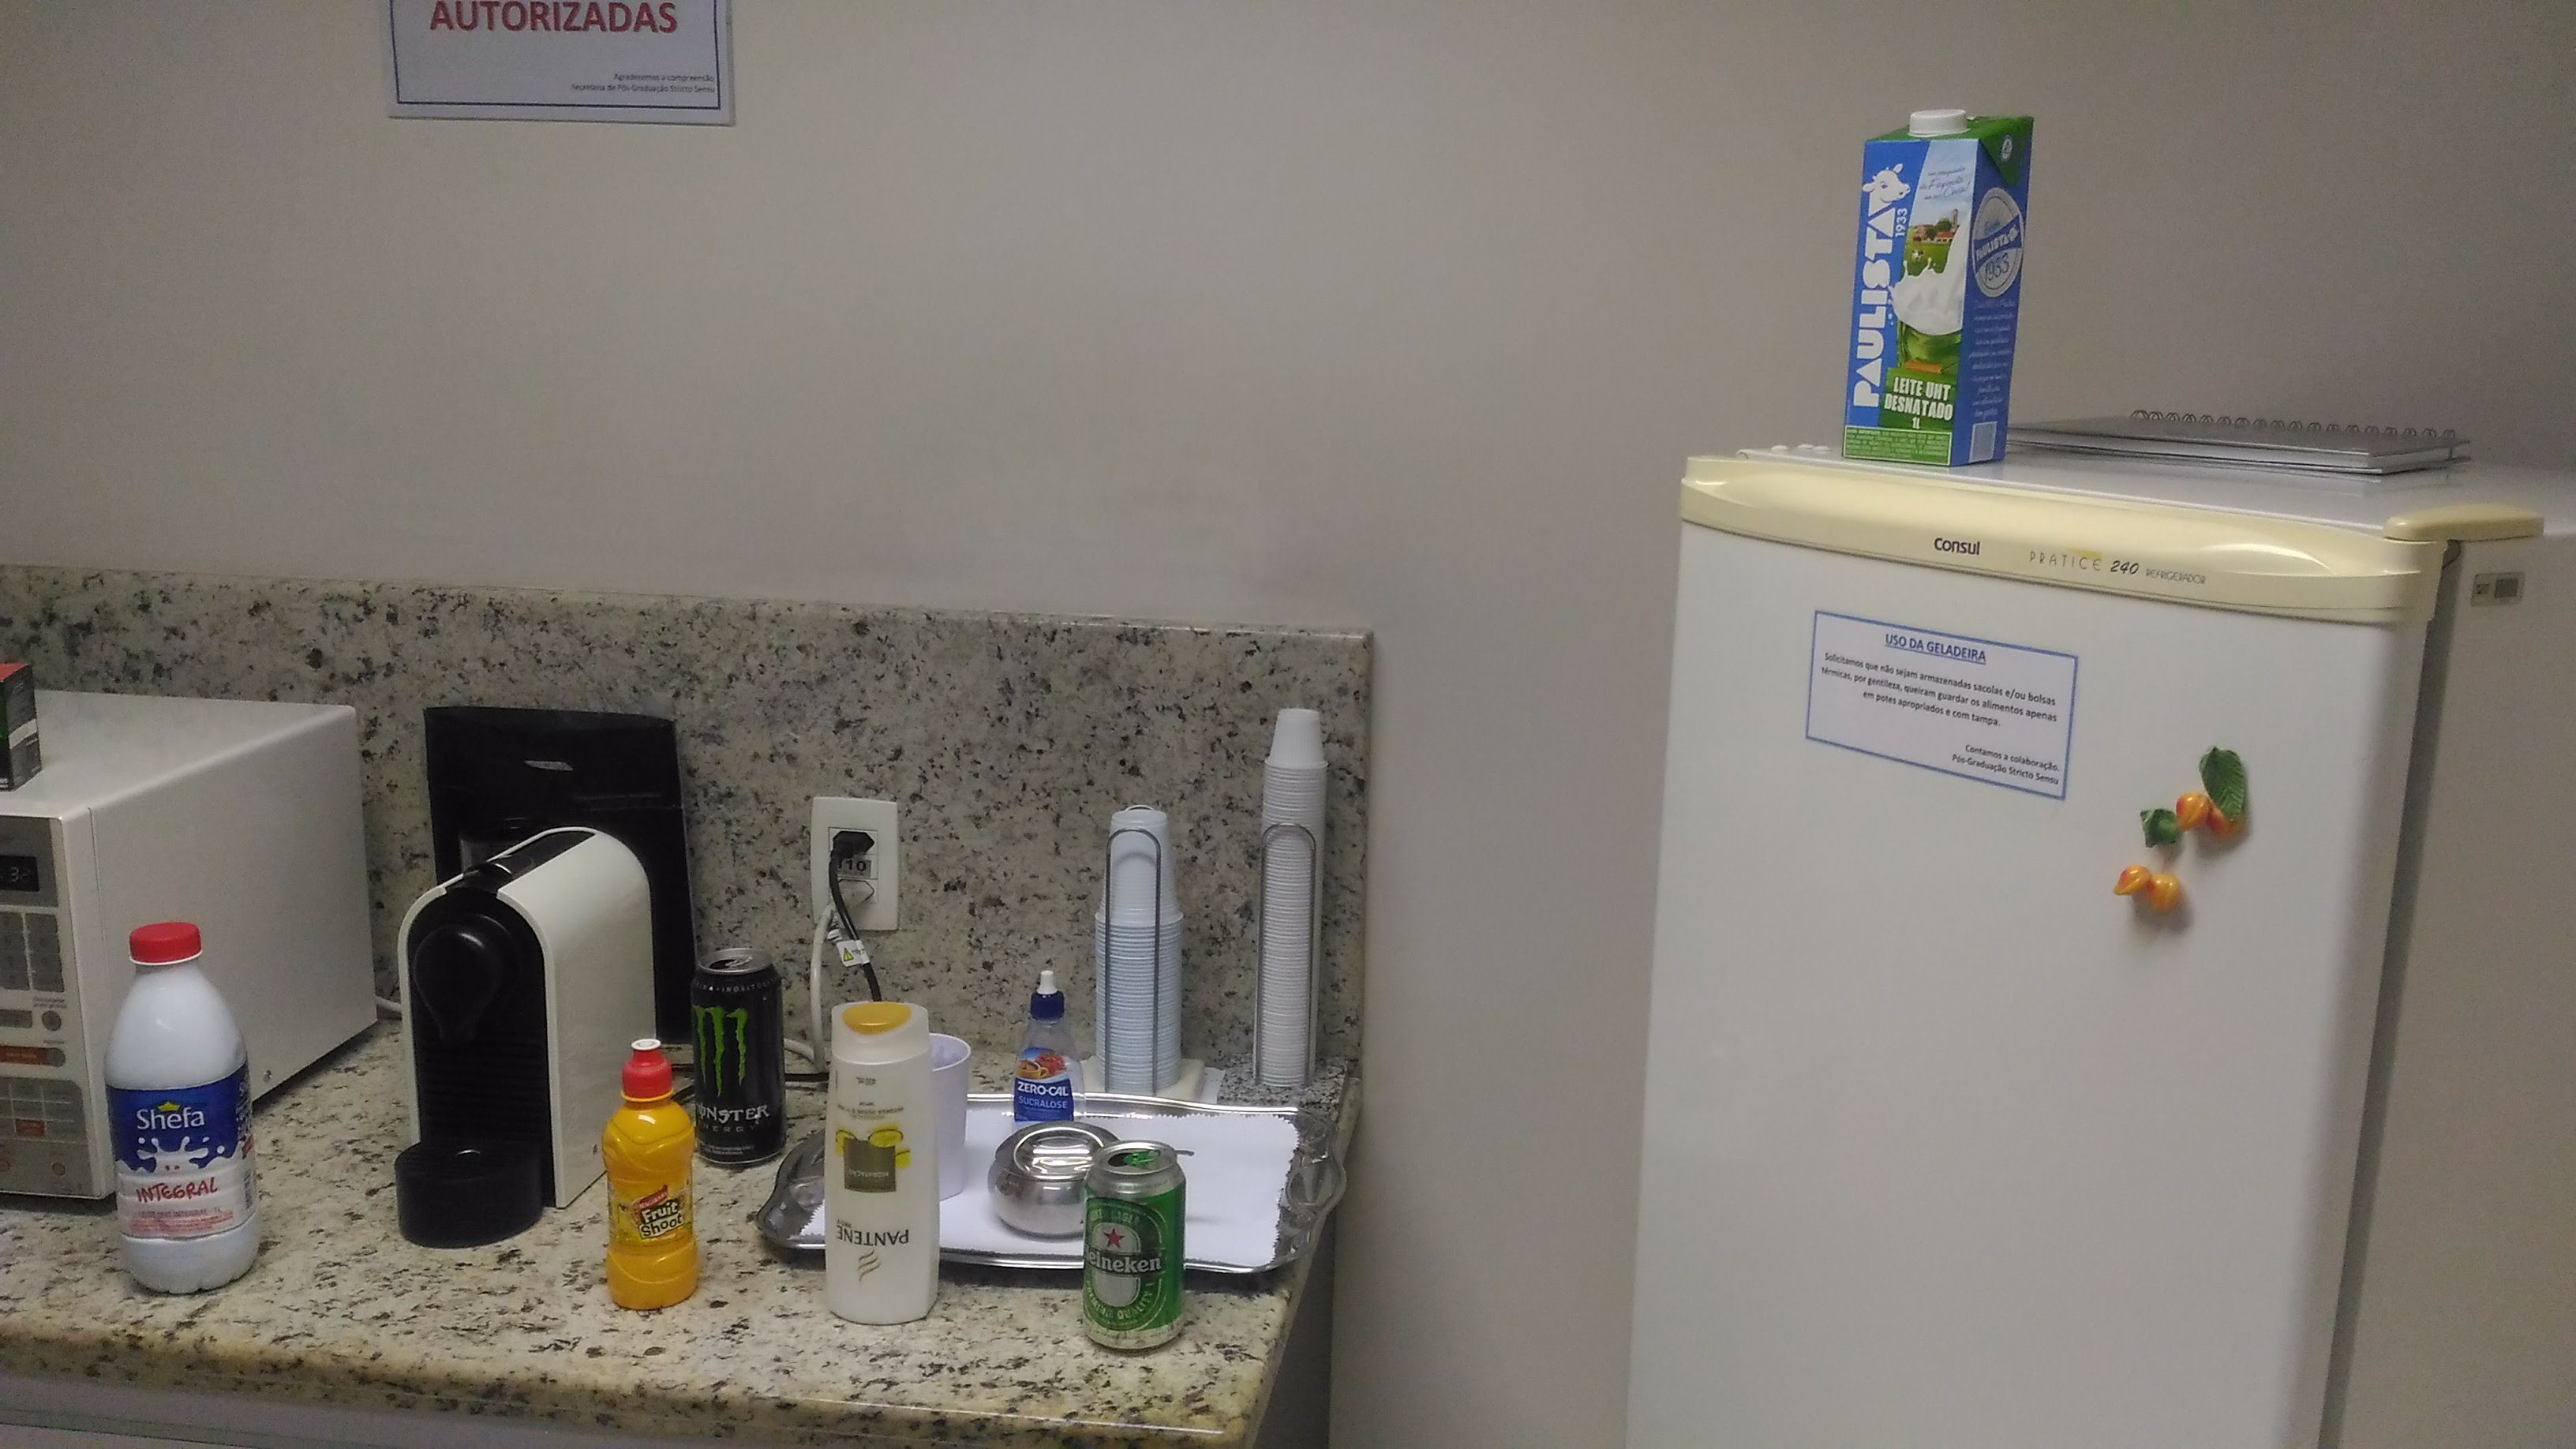heineken: (1076, 1134, 1192, 1359)
milk_bottle: (90, 920, 274, 1306)
monster: (685, 941, 798, 1178)
shampoo: (816, 991, 952, 1336)
tea_box: (1845, 96, 2038, 487)
yellow_juice: (594, 1037, 715, 1318)
